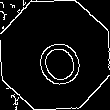O_NW: (25, 23, 85, 87)
